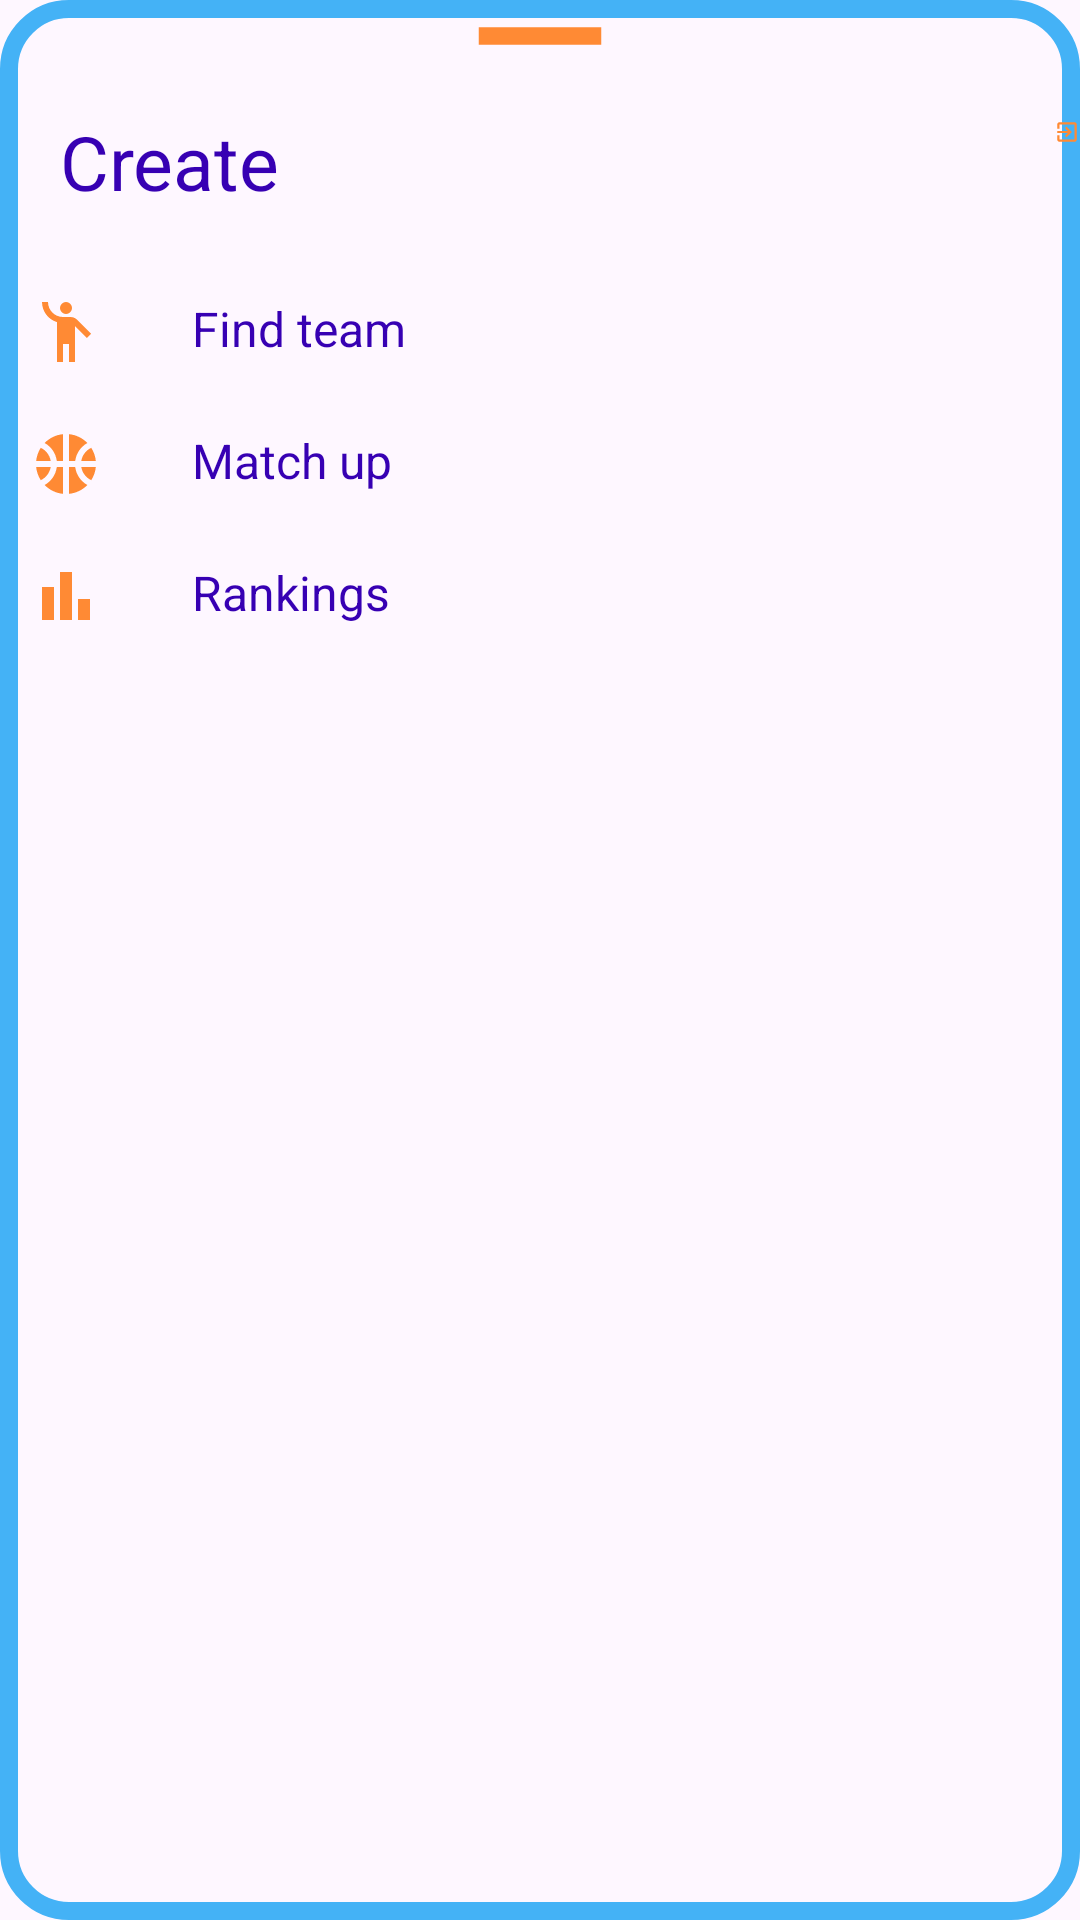

Screen size 1080px x 1920px. Icon name, then its box in pixels as (x1, y1, x2, y2):
bar chart: (42, 572, 90, 620)
emoji people: (42, 302, 91, 362)
sports basketball: (36, 434, 96, 494)
